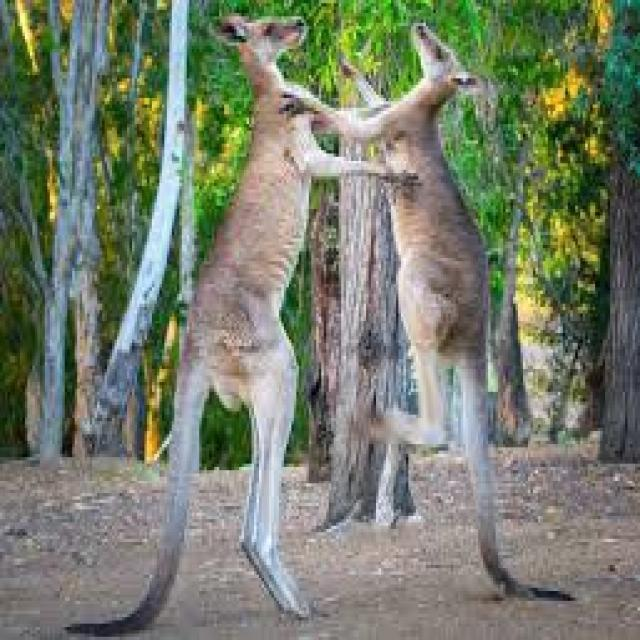kangaroo: (67, 16, 416, 630), (279, 23, 570, 598)
